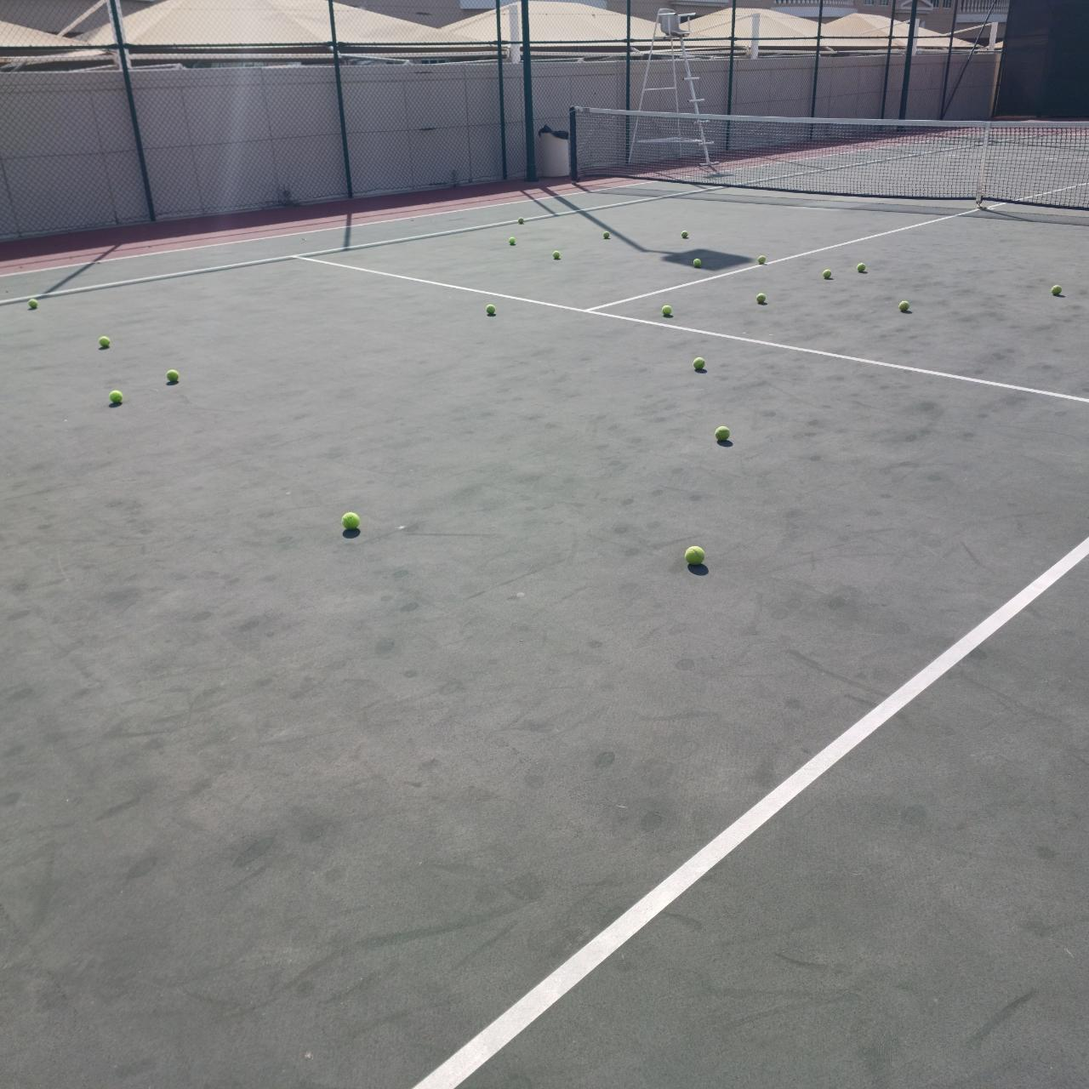tennis-ball: (683, 543, 705, 566), (339, 510, 360, 530), (713, 424, 729, 441), (107, 388, 123, 405), (164, 368, 180, 384), (97, 334, 111, 349), (693, 356, 706, 371), (1050, 284, 1062, 296), (899, 300, 910, 313), (486, 304, 497, 316), (755, 293, 767, 304), (662, 304, 672, 317), (27, 299, 38, 309), (551, 249, 561, 260), (692, 257, 701, 269), (856, 262, 866, 272), (822, 269, 831, 280), (758, 255, 766, 265), (508, 237, 516, 245), (517, 216, 525, 224), (602, 231, 610, 239), (681, 230, 688, 239)
